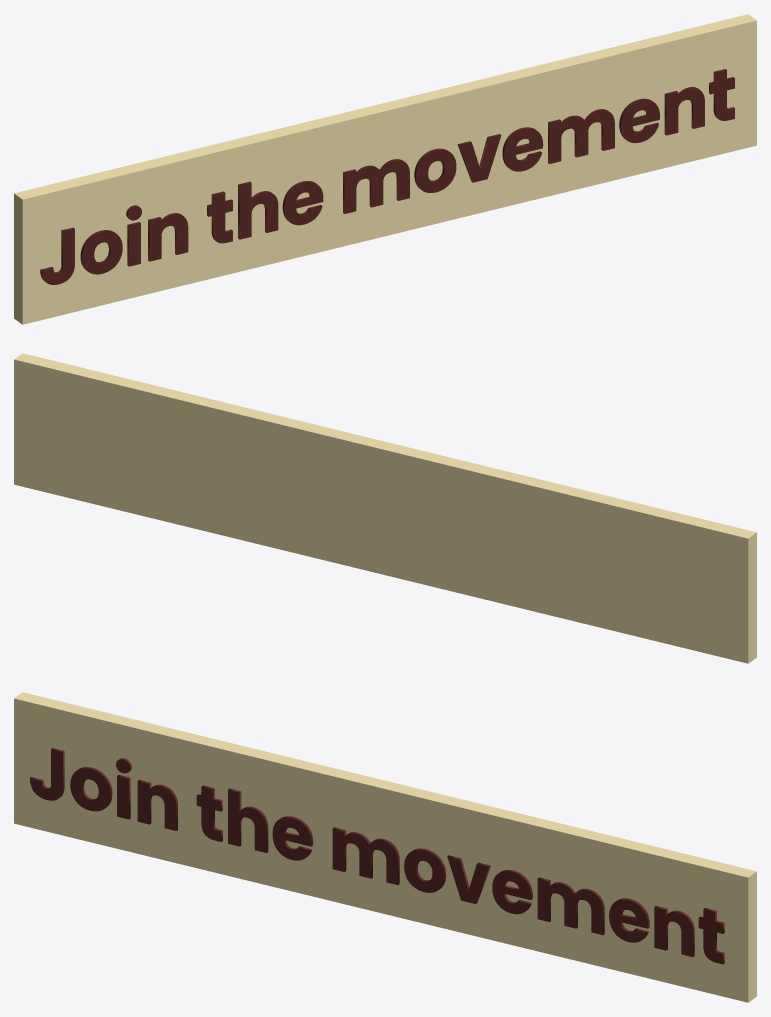
File: joinButton.gltf
3 views of the same model, one above another, from view 1: azimuth 30°, elevation 25°; view 2: azimuth 150°, elevation 25°; view 3: azimuth 330°, elevation 25° (orthographic).
Visible parts, largest first — view 1: joinButton, Text.001; view 2: joinButton; view 3: joinButton, Text.001.
Boxes of the visible parts, x1,y1,x2,y2 form: joinButton: [14, 14, 756, 324]; Text.001: [40, 69, 734, 284]; joinButton: [14, 353, 756, 663]; joinButton: [14, 692, 756, 1002]; Text.001: [30, 748, 724, 964].
Bounding box in the file's own units: 6.14 × 1 × 0.1486.
